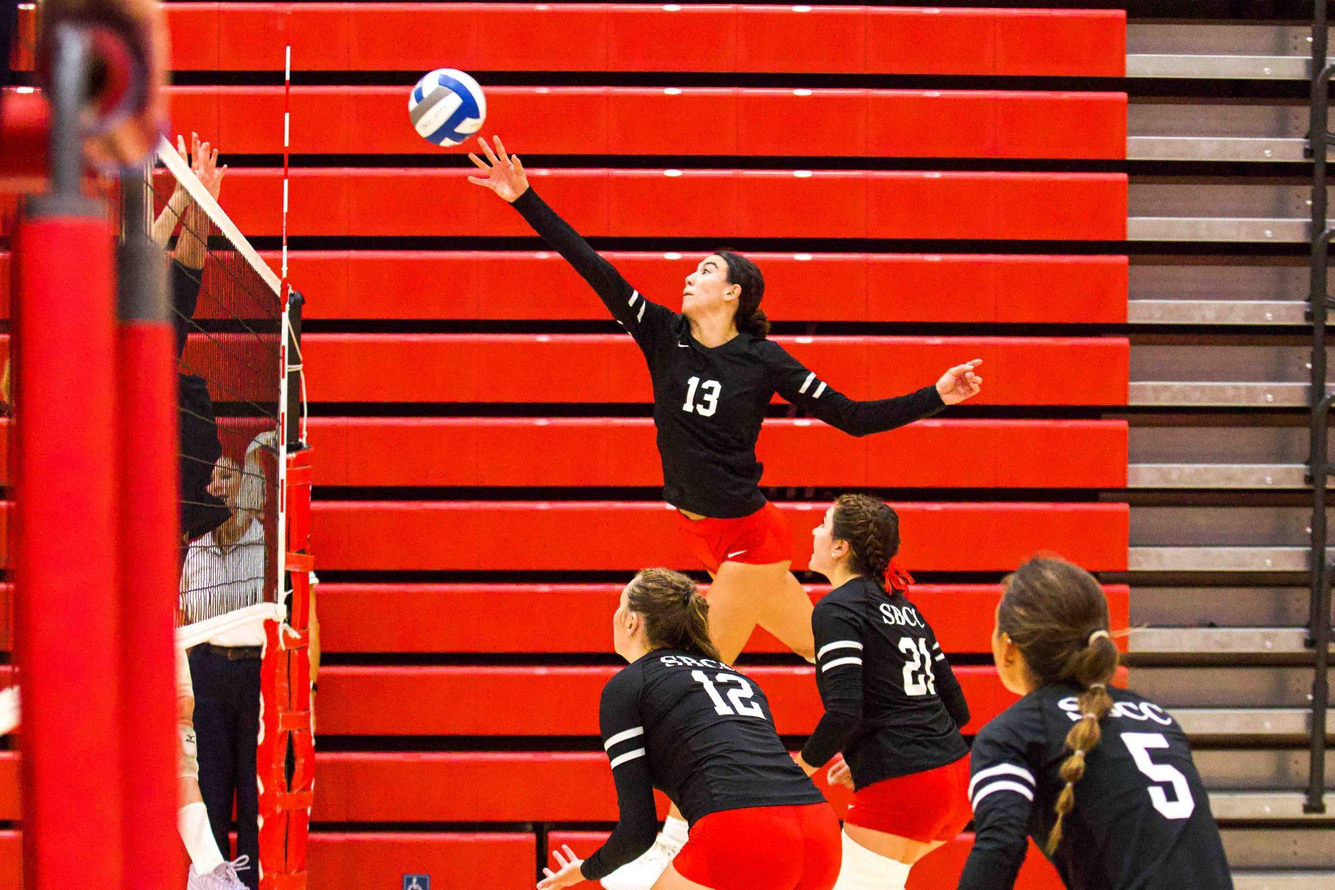ballon_volley: (404, 64, 487, 149)
